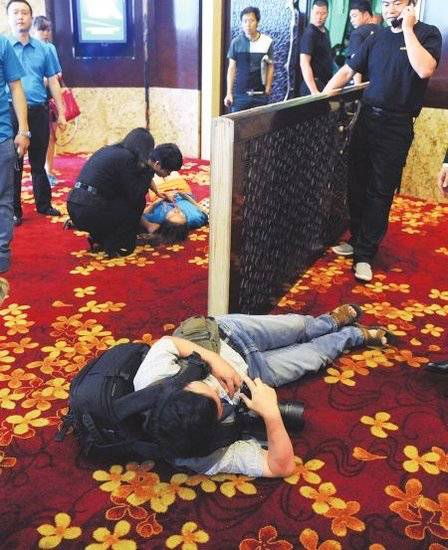fall: (56, 291, 390, 482)
